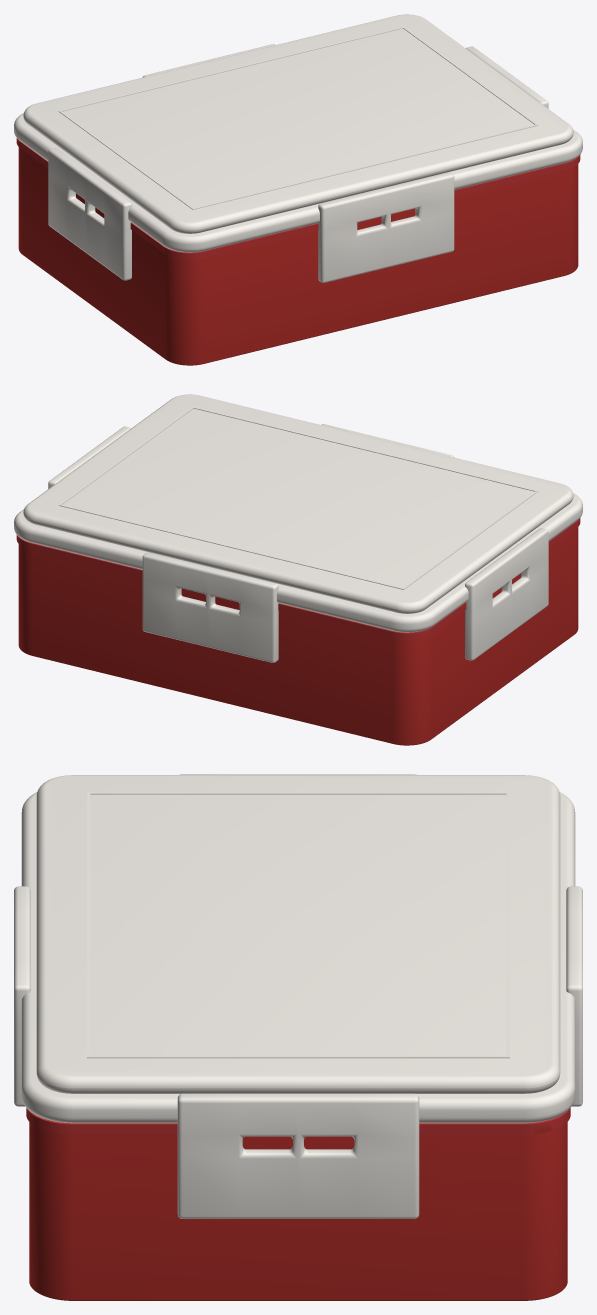
File: MiniBento_FINAL.glb
3 renders of one model, top to bottom at view 1: azimuth 30°, elevation 25°; view 2: azimuth 150°, elevation 25°; view 3: azimuth 270°, elevation 25°, orthographic. The views are drawn at different scales.
Parts seen in each view (by area): view 1: Lid_White, Container_Red, flap_back, flap_left, Gasket_Lip, Lid_GrooveLine, flap_right; view 2: Lid_White, Container_Red, flap_front, flap_left, Gasket_Lip, Lid_GrooveLine, flap_right; view 3: Lid_White, Container_Red, flap_right, Lid_GrooveLine, Gasket_Lip, flap_front, flap_back.
Boxes of the visible parts, <box> form: Lid_White: <box>14,14,582,252</box>; Container_Red: <box>18,147,578,365</box>; flap_back: <box>318,172,454,282</box>; flap_left: <box>48,148,131,280</box>; Gasket_Lip: <box>16,138,580,259</box>; Lid_GrooveLine: <box>58,26,538,209</box>; flap_right: <box>466,46,548,108</box>; Lid_White: <box>14,394,582,632</box>; Container_Red: <box>18,527,578,745</box>; flap_front: <box>142,552,278,662</box>; flap_left: <box>465,528,548,660</box>; Gasket_Lip: <box>16,518,580,639</box>; Lid_GrooveLine: <box>58,406,538,589</box>; flap_right: <box>48,426,130,488</box>; Lid_White: <box>21,775,575,1123</box>; Container_Red: <box>29,1122,567,1300</box>; flap_right: <box>177,1093,419,1218</box>; Lid_GrooveLine: <box>87,792,509,1058</box>; Gasket_Lip: <box>26,1108,570,1134</box>; flap_front: <box>566,886,582,1106</box>; flap_back: <box>14,886,30,1106</box>.
Bounding box in the file's own units: 208 × 65.3 × 153.
